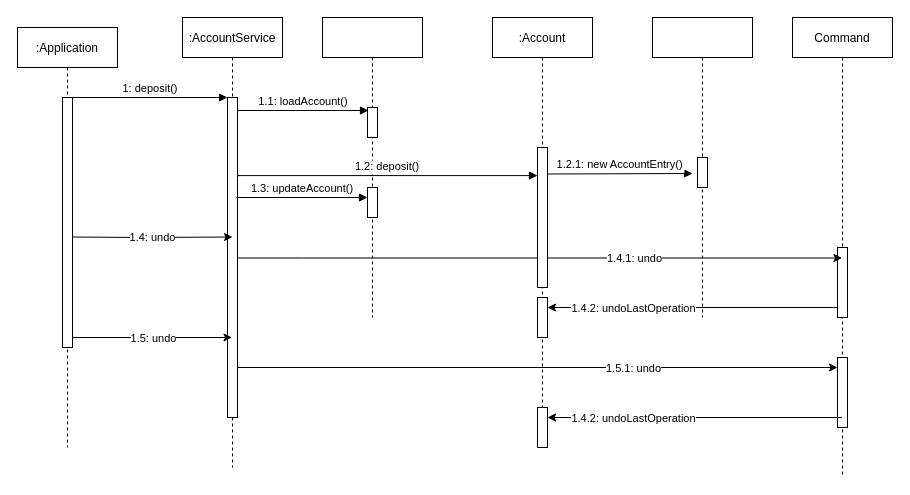
This 910x495 diagram has some shape labels left out. The shapes that lost their labels are listed below. From the top down, each one's centre as x and y in pixels, then its label:
the point at 372,167: :AccountDAO
the point at 702,167: :AccountEntry
